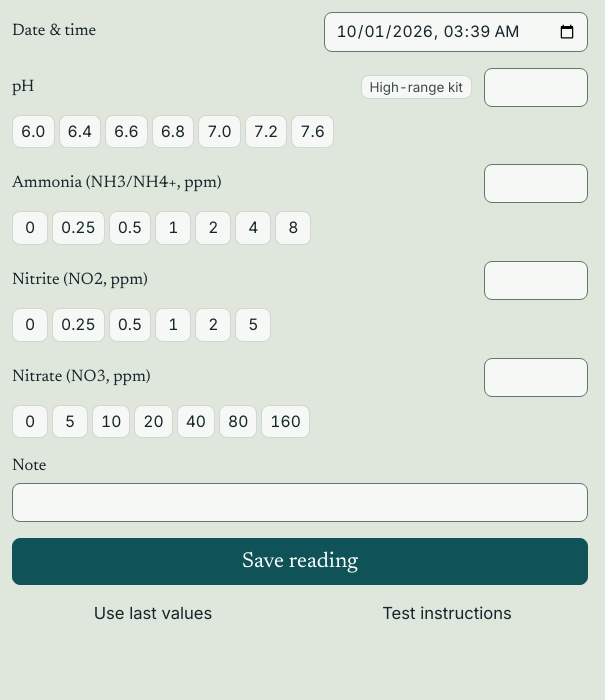
Test: QuickEntry kit chips › fills a field from a chip, saves, and clears on a second tap
Check: the button "Save reading" is enabled, box [12,538,588,585]
Click the button named "NH3 0.5". click: click(130, 228)
box: [109,211,151,245]
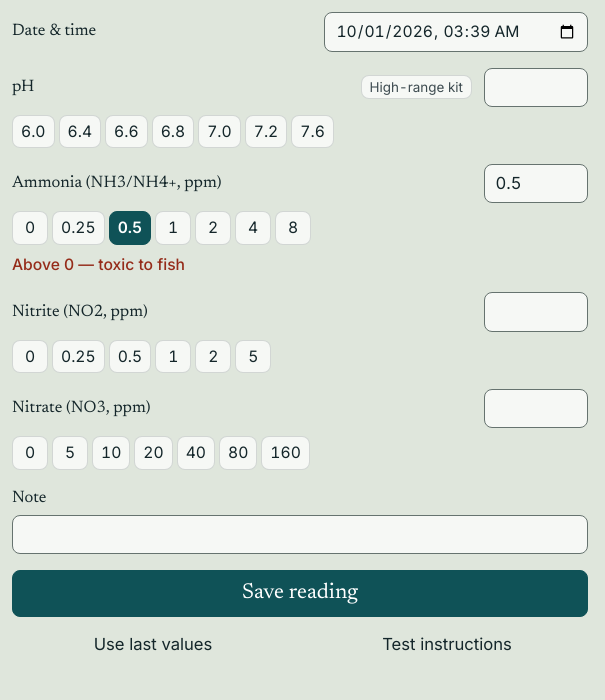
Check: the field labelled "Ammonia (NH3/NH4+, ppm)" holds "0.5", box [484,164,588,203]
Tapping again clears back to not tested
Click the button named "NH3 0.5". click: click(130, 228)
box: [109,211,151,245]
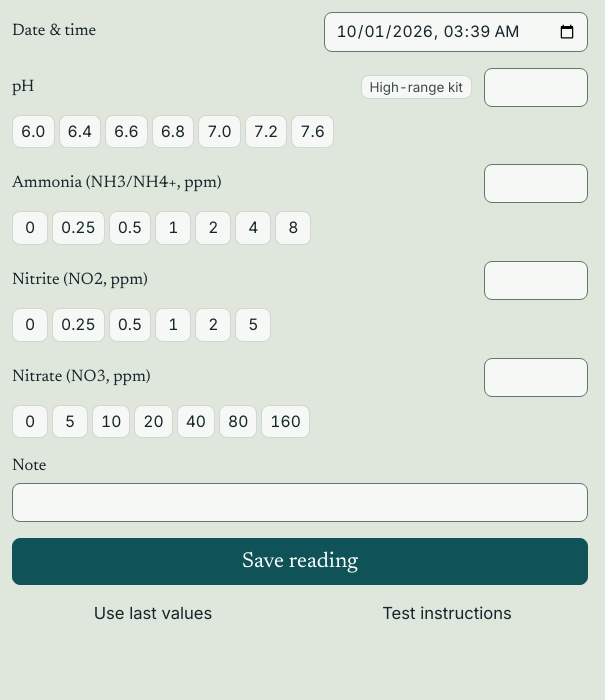
Check: the field labelled "Ammonia (NH3/NH4+, ppm)" is empty, box [484,164,588,203]
Chips only, nothing typed
Click the button named "NH3 0.5". click: click(130, 228)
box: [109,211,151,245]
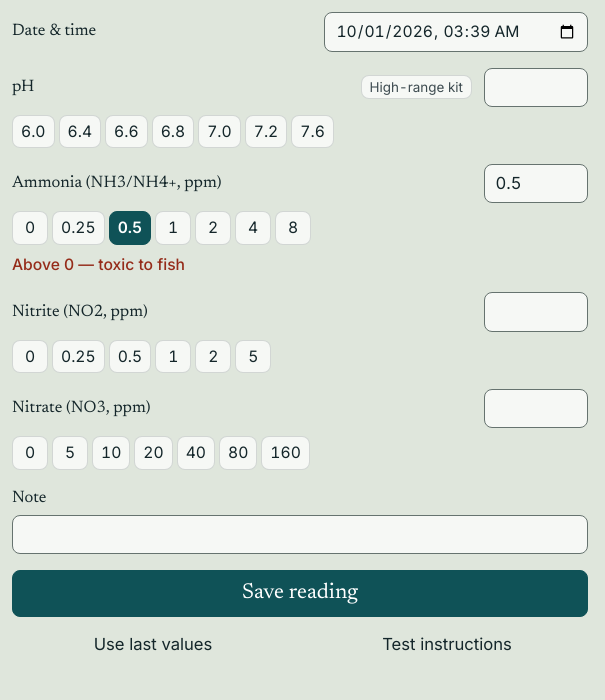
Click the button named "NO2 0.25". click: click(78, 356)
box: [52,340,105,373]
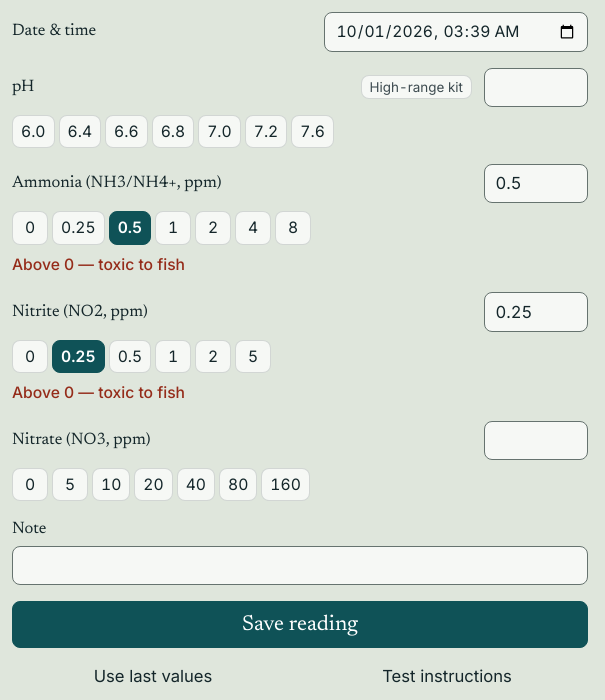
Click the button "Save reading". click: click(300, 625)
box: [12,601,588,648]
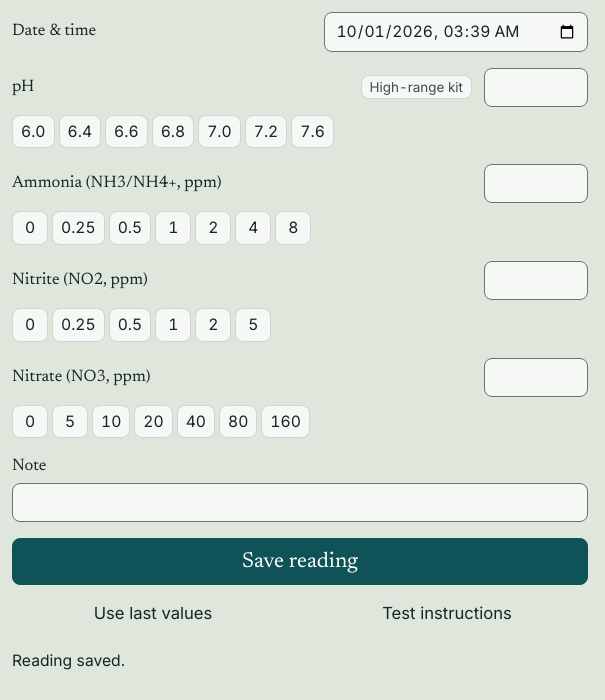
Check: the text "Reading saved." is shown, box [12,651,125,670]
